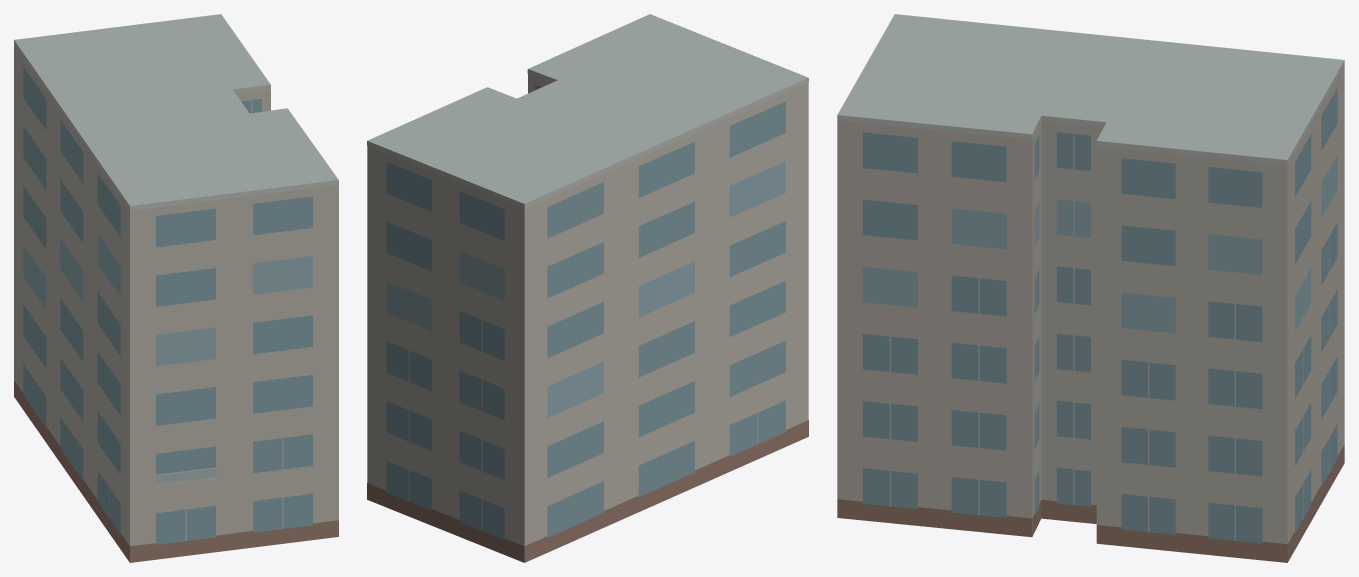
The model's file is survey-upis-32531676.glb.
3 renders of one model, left to right at view 1: azimuth 30°, elevation 25°; view 2: azimuth 150°, elevation 25°; view 3: azimuth 270°, elevation 25°, orthographic. The views are drawn at different scales.
Parts seen in each view (by area): view 1: survey-upis-32531676.tmp; view 2: survey-upis-32531676.tmp; view 3: survey-upis-32531676.tmp.
Part boxes in pixels (left/top/right/bottom): survey-upis-32531676.tmp: left=14, top=14, right=338, bottom=562; survey-upis-32531676.tmp: left=367, top=14, right=808, bottom=562; survey-upis-32531676.tmp: left=837, top=14, right=1344, bottom=562.
Bounding box in the file's own units: 13.54 × 17.4 × 19.87.
